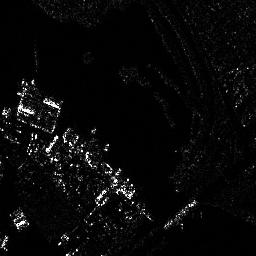ship: (162, 199, 199, 230)
